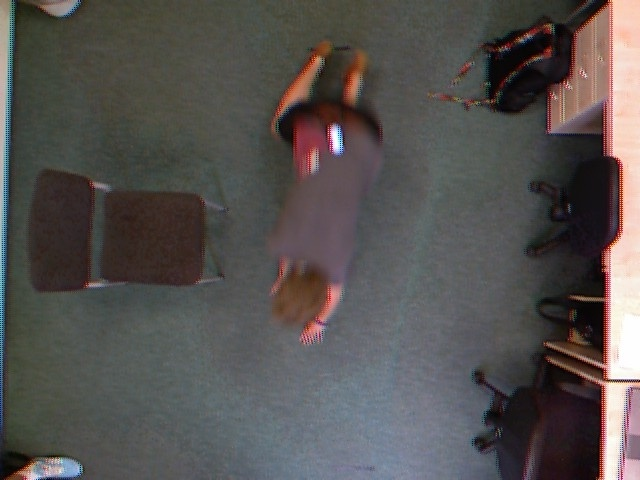fall: (227, 30, 413, 348)
not_fallen: (0, 443, 86, 480)
